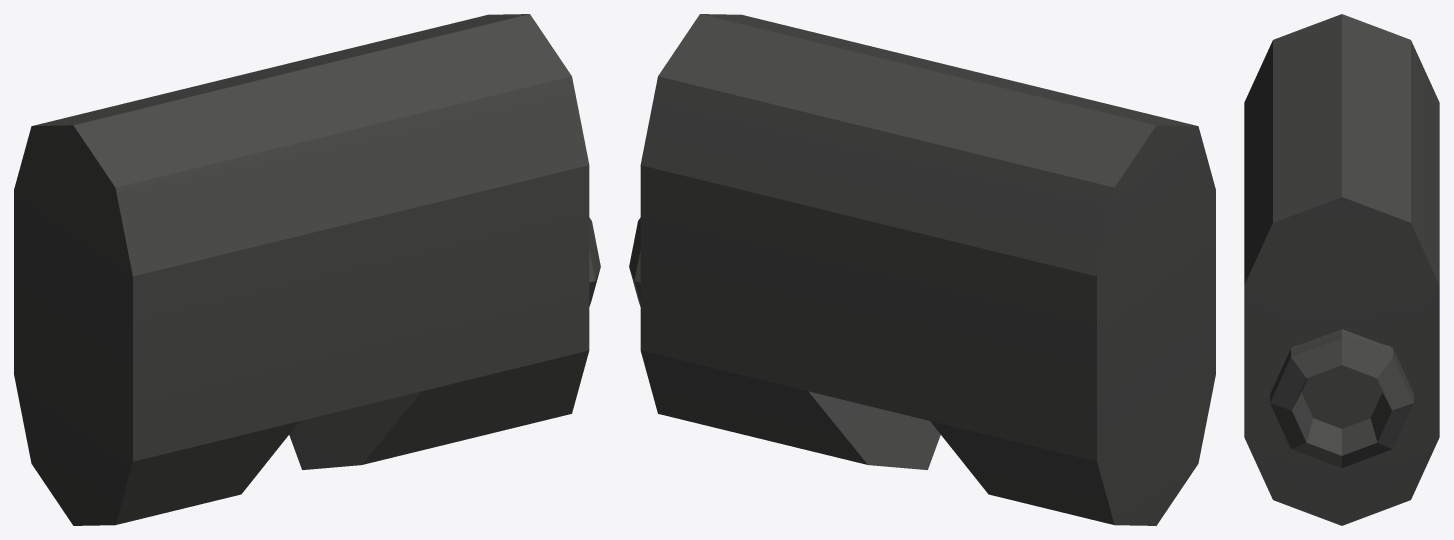
The model's file is AR_Silencer_mesh.fbx.
The picture shows the model from 3 angles, left to right: view 1: azimuth 30°, elevation 25°; view 2: azimuth 150°, elevation 25°; view 3: azimuth 270°, elevation 25°; orthographic projection. The views are drawn at different scales.
Visible parts, largest first — view 1: AR_Silencer_mesh; view 2: AR_Silencer_mesh; view 3: AR_Silencer_mesh.
Part boxes in pixels (bbox=[...]): AR_Silencer_mesh: bbox=[14, 14, 600, 525]; AR_Silencer_mesh: bbox=[629, 14, 1215, 525]; AR_Silencer_mesh: bbox=[1244, 14, 1439, 525].
Bounding box in the file's own units: 10.97 × 8.45 × 4.54.
1 material, 1 textured.
